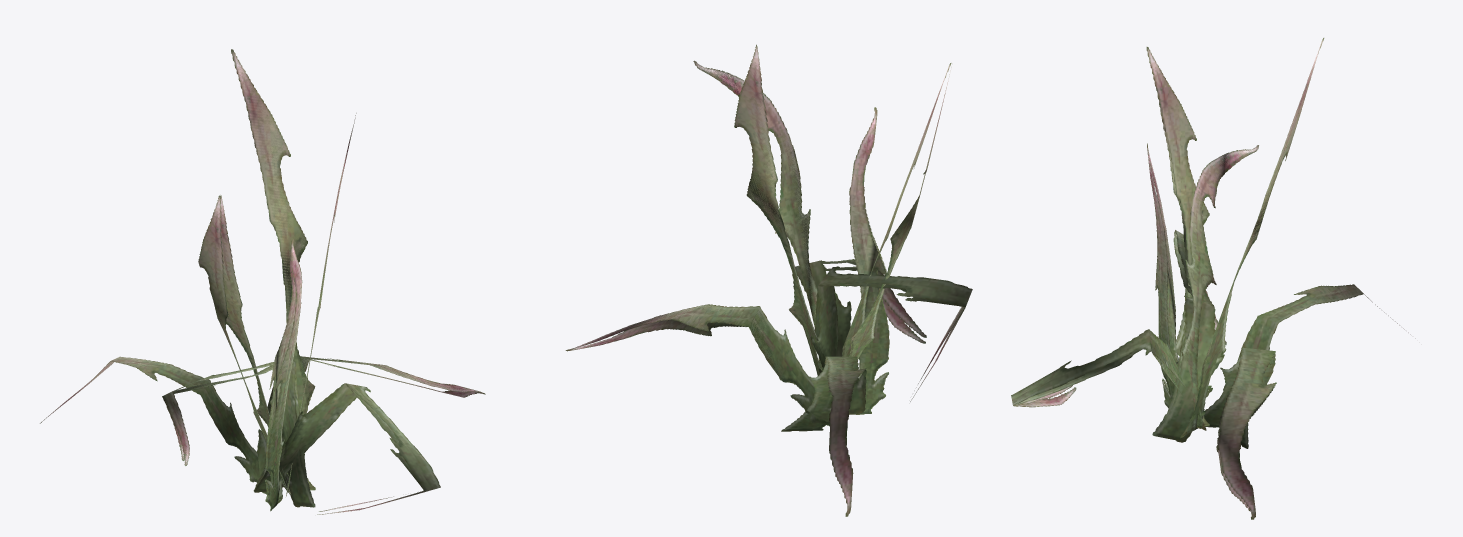
The model's file is core_leaf_razorgrass_mtns_a1_l1.fbx.
3 views of the same model, side by side, from view 1: azimuth 30°, elevation 25°; view 2: azimuth 150°, elevation 25°; view 3: azimuth 270°, elevation 25° (orthographic). The views are drawn at different scales.
Visible parts, largest first — view 1: mesh_node; view 2: mesh_node; view 3: mesh_node.
Boxes of the visible parts, <box> form: mesh_node: <box>40,49,485,514</box>; mesh_node: <box>565,44,972,516</box>; mesh_node: <box>1011,38,1415,519</box>.
Bounding box in the file's own units: 1.36 × 1.4 × 1.27.
